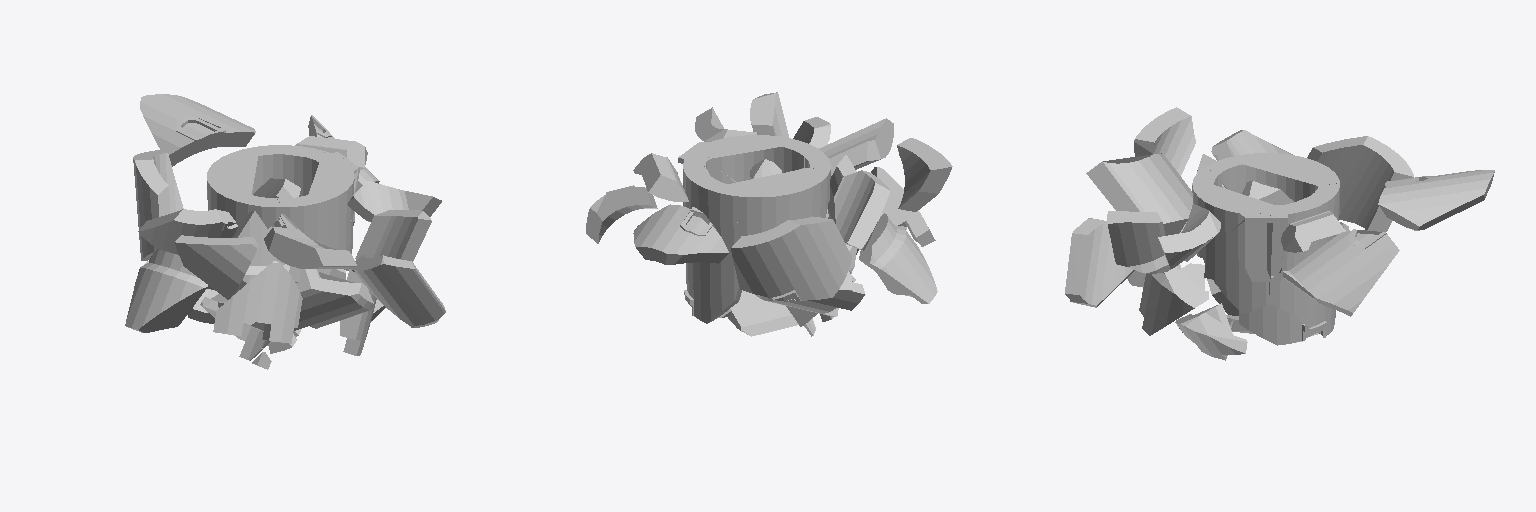
The model's file is destruction_tower_000050.obj.
3 views of the same model, side by side, from view 1: azimuth 30°, elevation 25°; view 2: azimuth 150°, elevation 25°; view 3: azimuth 270°, elevation 25° (orthographic).
Parts seen in each view (by area): view 1: tower.001_cell.025_Mesh.025, tower.001_cell.006_Mesh.006, tower.001_cell.005_Mesh.005, tower.001_cell.028_Mesh.028, tower.001_cell.021_Mesh.021, tower.001_cell.002_Mesh.002, tower.001_cell.011_Mesh.011, tower.001_cell.003_Mesh.003, tower.001_cell_Mesh, tower.001_cell.009_Mesh.009, tower.001_cell.024_Mesh.024, tower.001_cell.015_Mesh.015 (+10 smaller); view 2: tower.001_cell.003_Mesh.003, tower.001_cell.017_Mesh.017, tower.001_cell.015_Mesh.015, tower.001_cell.025_Mesh.025, tower.001_cell.005_Mesh.005, tower.001_cell.028_Mesh.028, tower.001_cell.009_Mesh.009, tower.001_cell.002_Mesh.002, tower.001_cell.024_Mesh.024, tower.001_cell.012_Mesh.012, tower.001_cell.029_Mesh.029, tower.001_cell.016_Mesh.016 (+6 smaller); view 3: tower.001_cell.012_Mesh.012, tower.001_cell.003_Mesh.003, tower.001_cell.024_Mesh.024, tower.001_cell.020_Mesh.020, tower.001_cell.025_Mesh.025, tower.001_cell.021_Mesh.021, tower.001_cell.023_Mesh.023, tower.001_cell_Mesh, tower.001_cell.015_Mesh.015, tower.001_cell.017_Mesh.017, tower.001_cell.028_Mesh.028, tower.001_cell.002_Mesh.002 (+8 smaller).
Boxes of the visible parts, box(x1,y1,x2,y2) form: tower.001_cell.025_Mesh.025: box(140, 94, 255, 166); tower.001_cell.006_Mesh.006: box(213, 261, 302, 343); tower.001_cell.005_Mesh.005: box(125, 249, 207, 332); tower.001_cell.028_Mesh.028: box(277, 163, 359, 249); tower.001_cell.021_Mesh.021: box(351, 255, 445, 327); tower.001_cell.002_Mesh.002: box(175, 235, 257, 299); tower.001_cell.011_Mesh.011: box(294, 269, 373, 330); tower.001_cell.003_Mesh.003: box(133, 150, 183, 260); tower.001_cell_Mesh: box(355, 210, 431, 261); tower.001_cell.009_Mesh.009: box(138, 209, 237, 254); tower.001_cell.024_Mesh.024: box(264, 227, 356, 268); tower.001_cell.015_Mesh.015: box(207, 150, 257, 237); tower.001_cell.003_Mesh.003: box(731, 216, 851, 301); tower.001_cell.017_Mesh.017: box(683, 162, 744, 323); tower.001_cell.015_Mesh.015: box(723, 168, 828, 235); tower.001_cell.025_Mesh.025: box(633, 204, 728, 264); tower.001_cell.005_Mesh.005: box(859, 213, 937, 303); tower.001_cell.028_Mesh.028: box(699, 135, 818, 181); tower.001_cell.009_Mesh.009: box(834, 170, 889, 250); tower.001_cell.002_Mesh.002: box(897, 138, 952, 211); tower.001_cell.024_Mesh.024: box(819, 118, 893, 176); tower.001_cell.012_Mesh.012: box(586, 185, 657, 243); tower.001_cell.029_Mesh.029: box(728, 290, 798, 336); tower.001_cell.016_Mesh.016: box(633, 153, 688, 201); tower.001_cell.012_Mesh.012: box(1283, 229, 1399, 316); tower.001_cell.003_Mesh.003: box(1307, 136, 1413, 231); tower.001_cell.024_Mesh.024: box(1086, 153, 1192, 235); tower.001_cell.020_Mesh.020: box(1203, 212, 1272, 313); tower.001_cell.025_Mesh.025: box(1378, 170, 1494, 230); tower.001_cell.021_Mesh.021: box(1065, 218, 1134, 307); tower.001_cell.023_Mesh.023: box(1139, 263, 1208, 335); tower.001_cell_Mesh: box(1107, 211, 1170, 273); tower.001_cell.015_Mesh.015: box(1243, 153, 1339, 201); tower.001_cell.017_Mesh.017: box(1293, 183, 1339, 337); tower.001_cell.028_Mesh.028: box(1192, 170, 1273, 257); tower.001_cell.002_Mesh.002: box(1134, 107, 1195, 175).
Size of the model in its own units: 97.37 by 53.53 by 124.